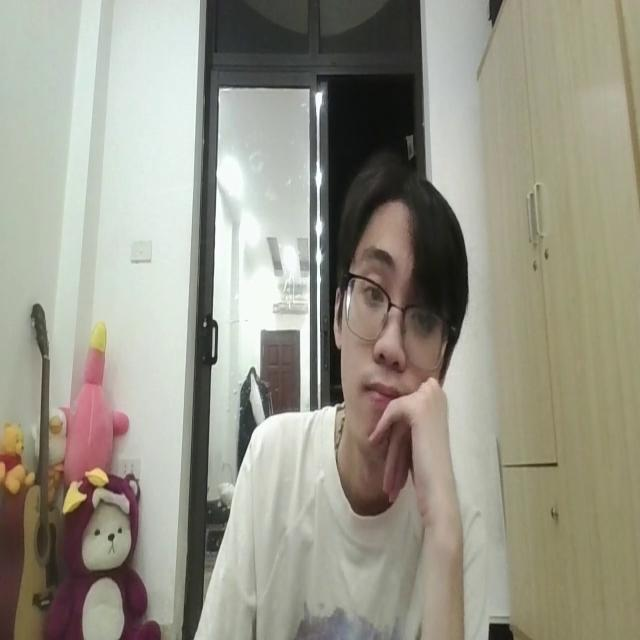student: (182, 157, 487, 640)
